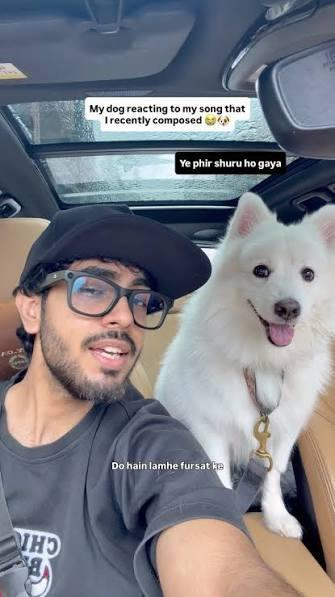adult_dog: (154, 190, 335, 539)
non-dog: (0, 202, 307, 597)
